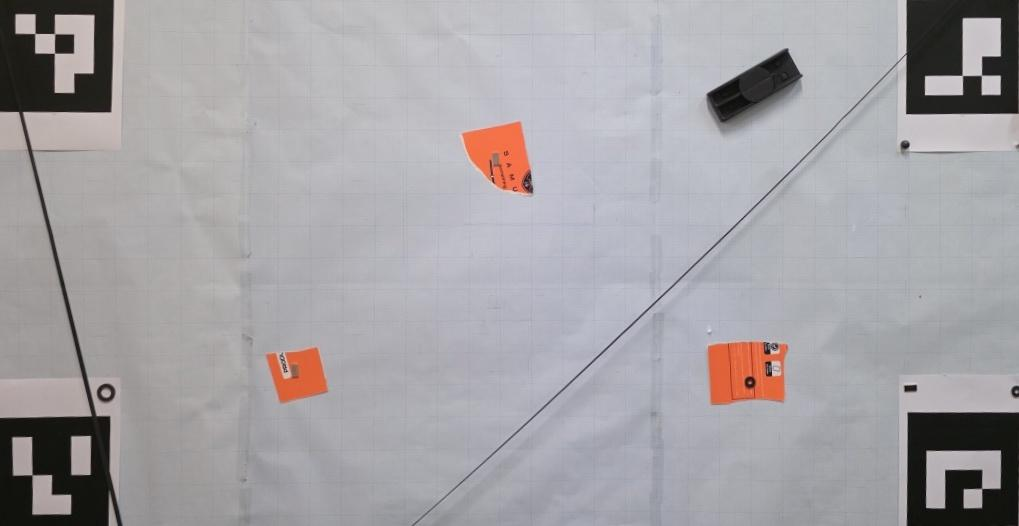obstacle: (707, 47, 802, 123), (462, 122, 534, 196), (707, 341, 788, 406), (266, 348, 328, 402)
